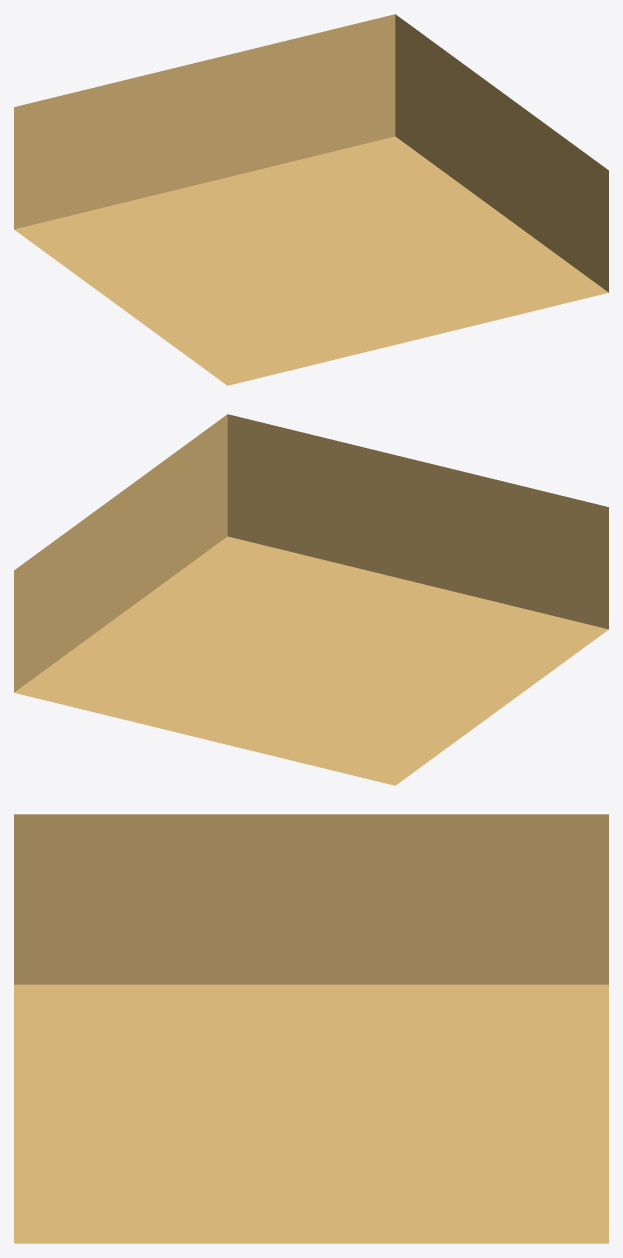
File: templates-temple-mandap-003.glb
3 renders of one model, top to bottom at view 1: azimuth 30°, elevation 25°; view 2: azimuth 150°, elevation 25°; view 3: azimuth 270°, elevation 25°, orthographic. The views are drawn at different scales.
Visible parts, largest first — view 1: Temple Mandap Templates; view 2: Temple Mandap Templates; view 3: Temple Mandap Templates.
Boxes of the visible parts, x1,y1,x2,y2 form: Temple Mandap Templates: [14, 14, 608, 385]; Temple Mandap Templates: [14, 414, 608, 785]; Temple Mandap Templates: [14, 814, 608, 1243].
Size of the model in its own units: 4.7 by 1.44 by 4.56.
